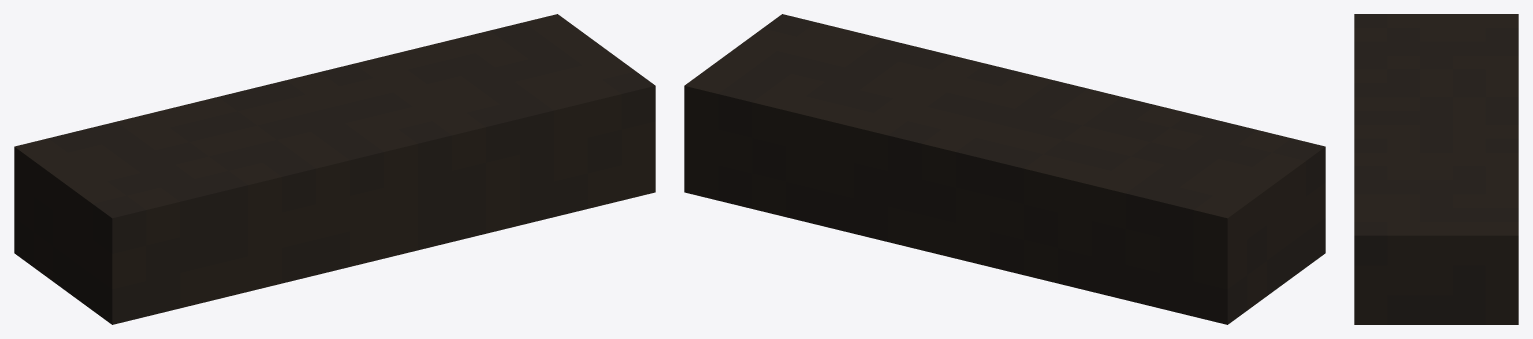
File: tavern-77-floor_edgewood.obj
3 renders of one model, left to right at view 1: azimuth 30°, elevation 25°; view 2: azimuth 150°, elevation 25°; view 3: azimuth 270°, elevation 25°, orthographic. The views are drawn at different scales.
Visible parts, largest first — view 1: floor_edgewood; view 2: floor_edgewood; view 3: floor_edgewood.
Boxes of the visible parts, <box> form: floor_edgewood: <box>14,14,655,324</box>; floor_edgewood: <box>684,14,1325,324</box>; floor_edgewood: <box>1354,14,1518,324</box>.
Size of the model in its own units: 1.6 by 0.3 by 0.5.
1 material, 1 textured.
